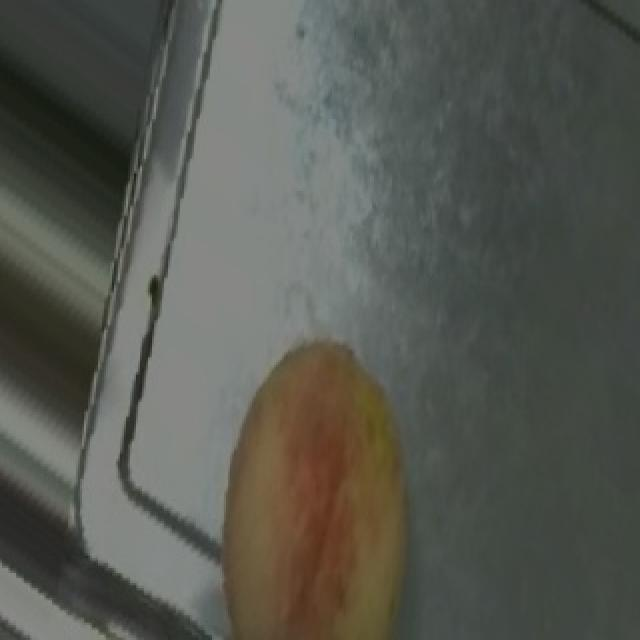Fruit: (168, 312, 458, 640)
